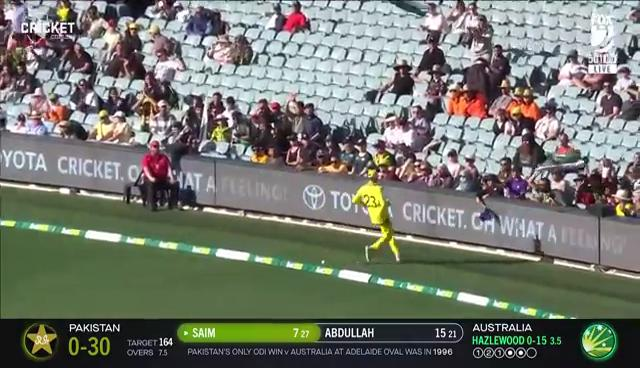ball: (319, 258, 327, 266)
